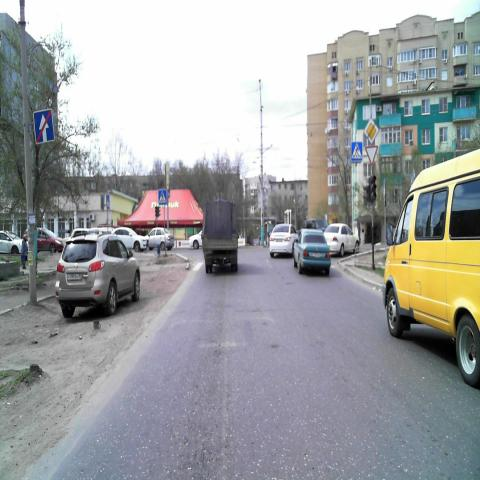5_6: (33, 109, 54, 143)
